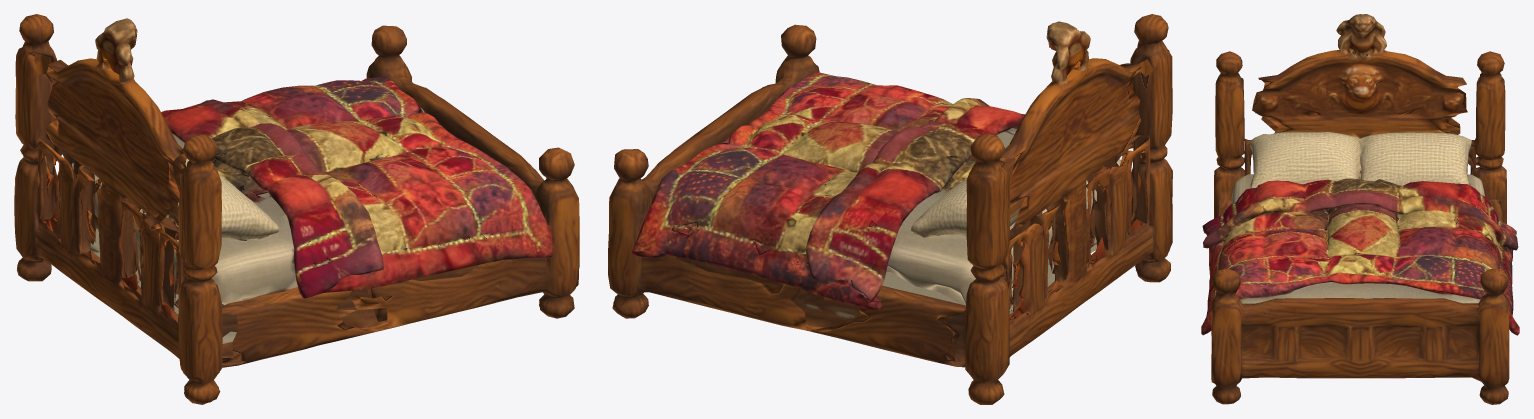
File: int_cozy_bed.glb
3 views of the same model, side by side, from view 1: azimuth 30°, elevation 25°; view 2: azimuth 150°, elevation 25°; view 3: azimuth 270°, elevation 25° (orthographic). The views are drawn at different scales.
Visible parts, largest first — view 1: world; view 2: world; view 3: world.
Part boxes in pixels (box(x1,y1,x2,y2)): world: box(14, 14, 579, 404); world: box(608, 14, 1172, 404); world: box(1201, 14, 1519, 404).
Size of the model in its own units: 0.9966 by 0.7841 by 0.8908.
Materials: 1 (1 with a texture image).
